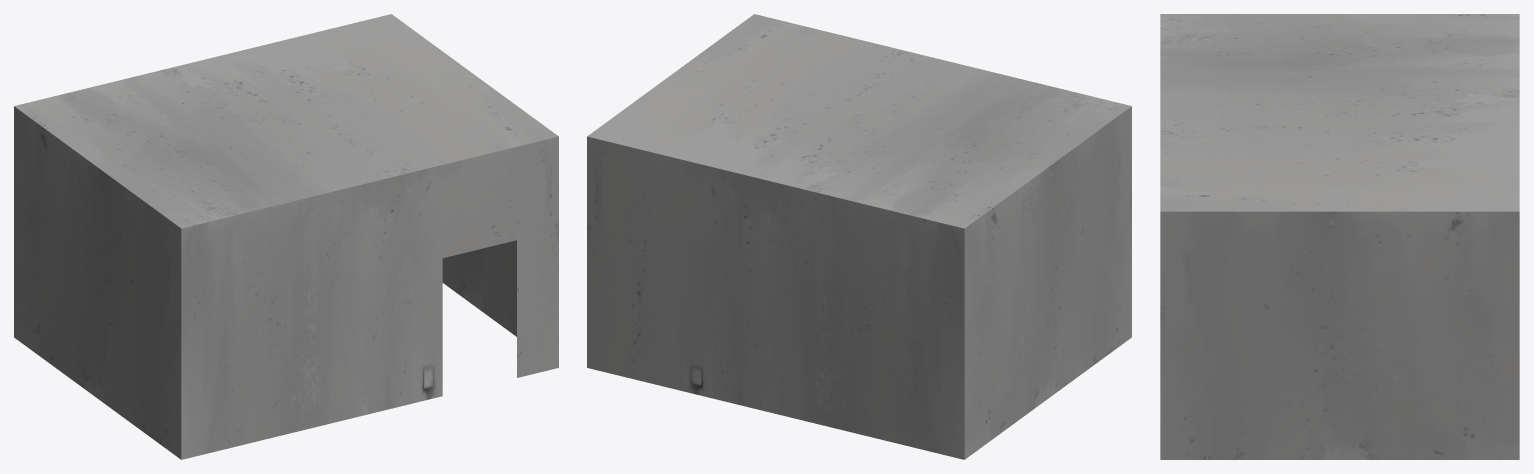
Rendered from BgMD_SpawnRooftoop_02_01.fbx.
3 views of the same model, side by side, from view 1: azimuth 30°, elevation 25°; view 2: azimuth 150°, elevation 25°; view 3: azimuth 270°, elevation 25° (orthographic). The views are drawn at different scales.
Visible parts, largest first — view 1: pCube133; view 2: pCube133; view 3: pCube133.
Part boxes in pixels (x1,y1,x2,y2): pCube133: [14, 14, 558, 459]; pCube133: [587, 14, 1131, 459]; pCube133: [1160, 14, 1519, 459].
Bounding box in the file's own units: 854 × 500 × 656.
Materials: 1 (1 with a texture image).
